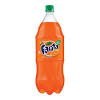fanta_bottle: (35, 4, 66, 95)
